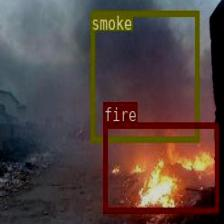fire: (103, 122, 218, 212)
smoke: (90, 10, 198, 141)
